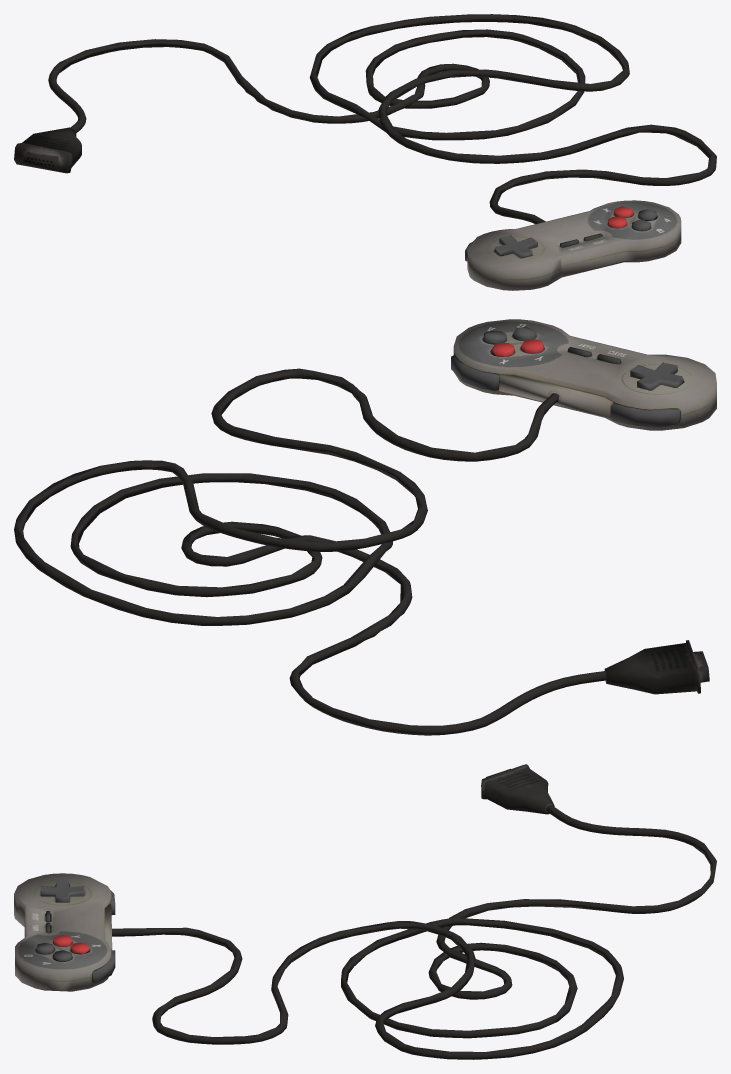
The model's file is gamepad.glb.
3 renders of one model, top to bottom at view 1: azimuth 30°, elevation 25°; view 2: azimuth 150°, elevation 25°; view 3: azimuth 270°, elevation 25°, orthographic. The views are drawn at different scales.
Parts seen in each view (by area): view 1: gamepad; view 2: gamepad; view 3: gamepad.
Part boxes in pixels (x1,y1,x2,y2): gamepad: (14,14,716,290); gamepad: (14,319,716,735); gamepad: (14,764,716,1059).
Size of the model in its own units: 0.4041 by 0.0187 by 0.434.
1 material, 1 textured.
